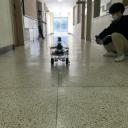cart: (50, 46, 70, 64)
